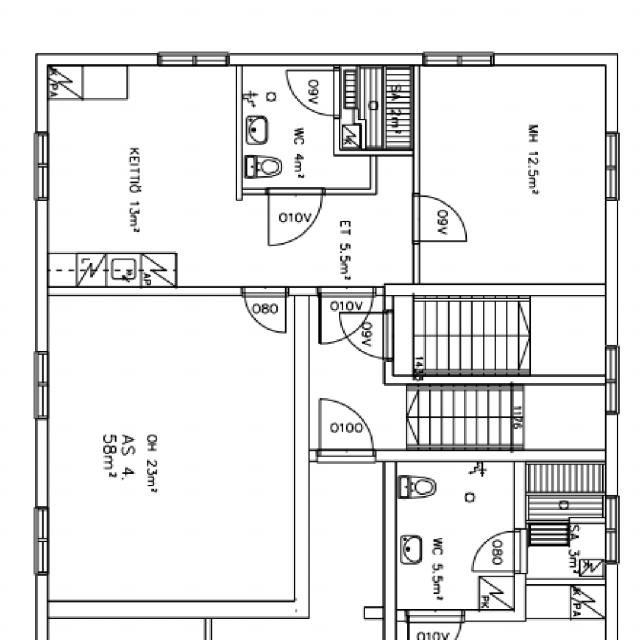door: (268, 188, 322, 246), (319, 287, 372, 346), (288, 71, 339, 114), (413, 198, 464, 240), (245, 287, 285, 334)
